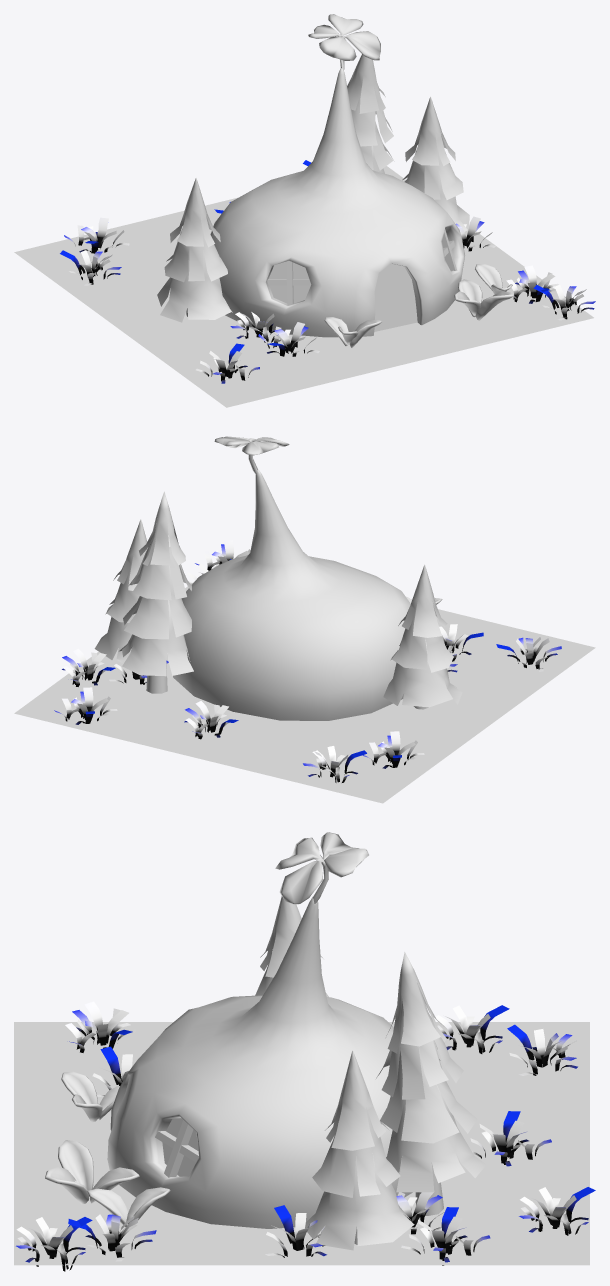
Rendered from TILE_HOUSE.fbx.
3 renders of one model, top to bottom at view 1: azimuth 30°, elevation 25°; view 2: azimuth 150°, elevation 25°; view 3: azimuth 270°, elevation 25°, orthographic. The views are drawn at different scales.
Parts seen in each view (by area): view 1: Cube, FLOOR.009, TREE_SMALL.005, !Env_Grass_Square_SingleSided.056, TREE_SMALL.004, TREE_BIG.002, Cube.003, Clover, BUSH.003, BUSH.002, Cube.001, BUSH; view 2: FLOOR.009, Cube, TREE_BIG.002, !Env_Grass_Square_SingleSided.056, TREE_SMALL.005, TREE_SMALL.004, Clover; view 3: FLOOR.009, Cube, !Env_Grass_Square_SingleSided.056, TREE_BIG.002, TREE_SMALL.004, Clover, BUSH.003, TREE_SMALL.005, BUSH.002, BUSH, Cube.008.
Part boxes in pixels (x1,y1,x2,y2): Cube: [210, 68, 464, 337]; FLOOR.009: [14, 166, 593, 407]; TREE_SMALL.005: [157, 178, 232, 322]; !Env_Grass_Square_SingleSided.056: [60, 160, 595, 383]; TREE_SMALL.004: [402, 97, 469, 231]; TREE_BIG.002: [347, 54, 394, 173]; Cube.003: [374, 263, 417, 331]; Clover: [308, 14, 380, 70]; BUSH.003: [454, 279, 513, 320]; BUSH.002: [324, 317, 381, 347]; Cube.001: [267, 260, 311, 305]; BUSH: [475, 264, 512, 294]; FLOOR.009: [14, 564, 595, 803]; Cube: [173, 470, 410, 720]; TREE_BIG.002: [119, 491, 193, 693]; !Env_Grass_Square_SingleSided.056: [54, 540, 561, 782]; TREE_SMALL.005: [383, 564, 462, 709]; TREE_SMALL.004: [94, 519, 167, 659]; Clover: [214, 436, 289, 473]; FLOOR.009: [14, 1022, 589, 1265]; Cube: [107, 897, 412, 1228]; !Env_Grass_Square_SingleSided.056: [16, 1001, 595, 1271]; TREE_BIG.002: [376, 952, 486, 1215]; TREE_SMALL.004: [305, 1050, 414, 1250]; Clover: [275, 832, 368, 904]; BUSH.003: [45, 1140, 139, 1204]; TREE_SMALL.005: [255, 896, 328, 996]; BUSH.002: [61, 1071, 119, 1122]; BUSH: [87, 1187, 170, 1227]; Cube.008: [155, 1120, 198, 1177].
Size of the model in its own units: 205 by 129 by 202.
